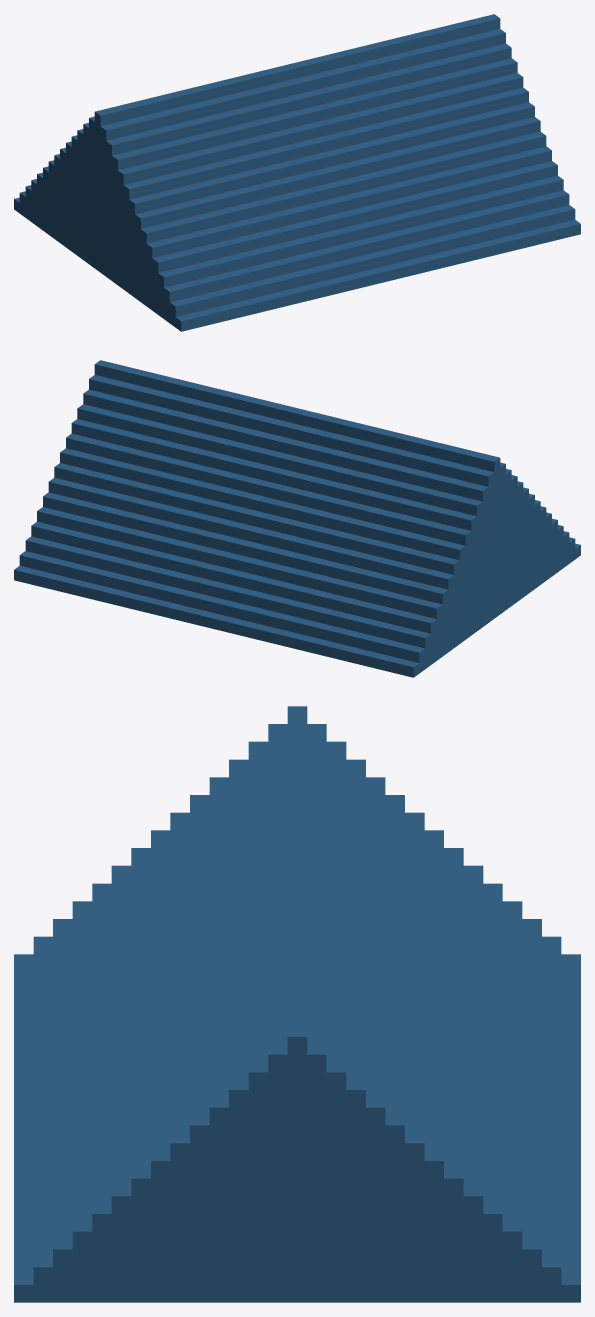
Rendered from ConstructionMaterials-18.obj.
3 views of the same model, one above another, from view 1: azimuth 30°, elevation 25°; view 2: azimuth 150°, elevation 25°; view 3: azimuth 270°, elevation 25° (orthographic). The views are drawn at different scales.
Bounding box in the file's own units: 4 × 1.5 × 2.9.
Materials: 1 (1 with a texture image).
